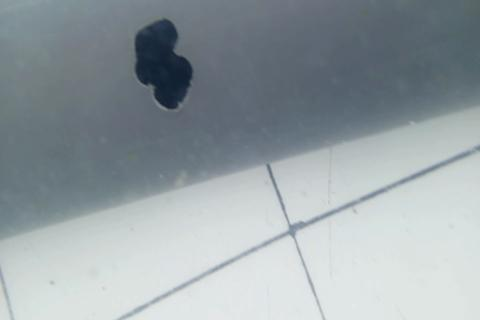kebocoran: (133, 19, 194, 109)
